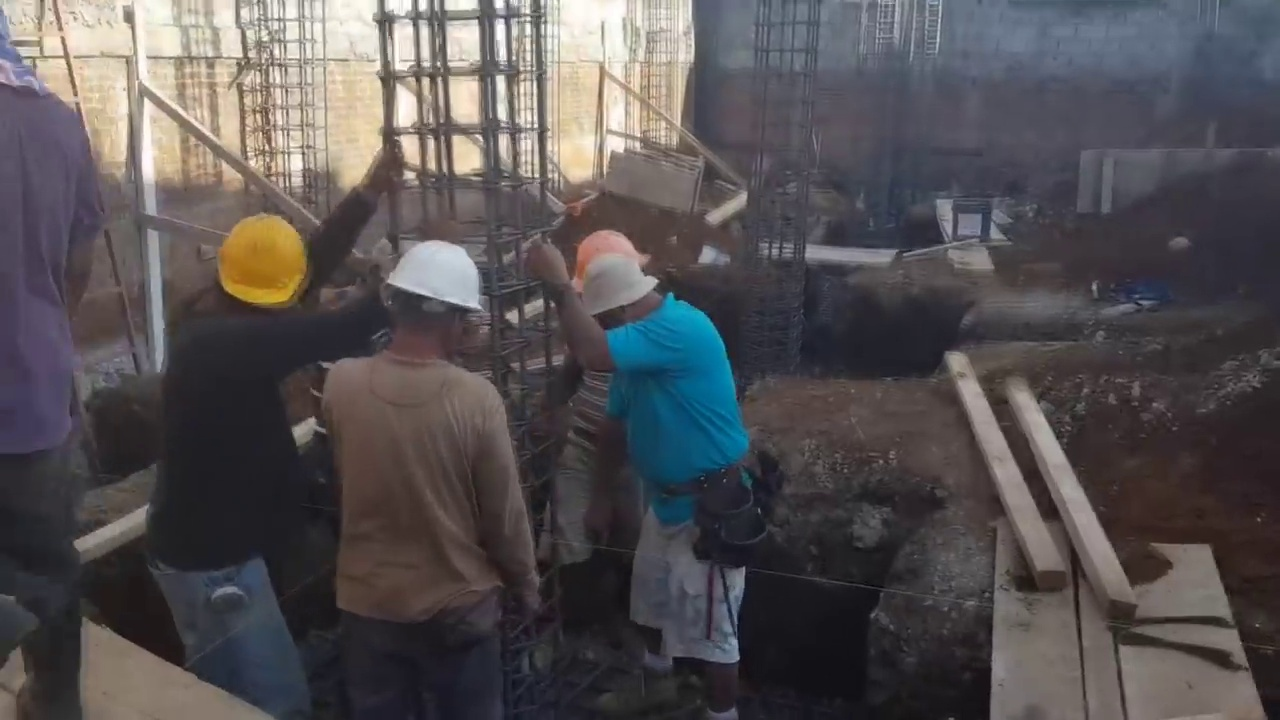helmet: (208, 214, 303, 308), (387, 238, 491, 322)
helmet-off: (579, 256, 684, 339)
helmet-on: (370, 234, 490, 370), (184, 200, 307, 332)
person: (137, 187, 370, 720), (314, 222, 546, 718), (574, 254, 750, 720), (1, 0, 103, 719), (550, 333, 656, 629)
